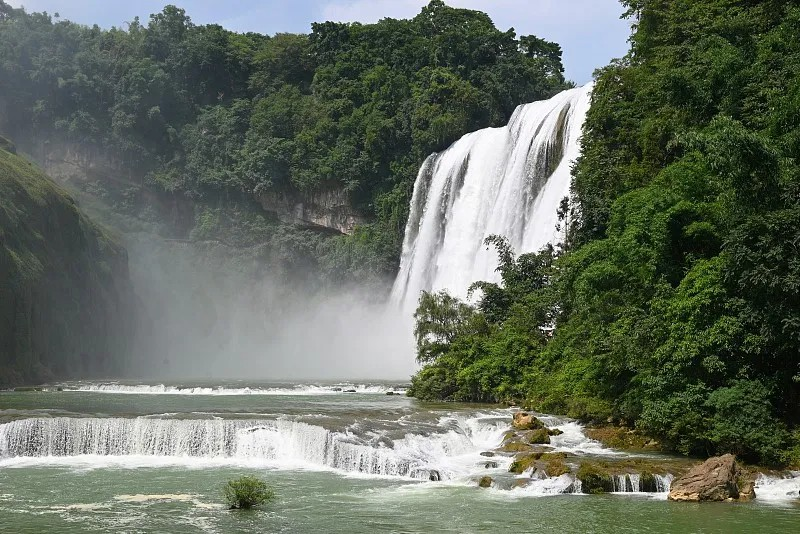Huangguoshu: (399, 82, 595, 292)
